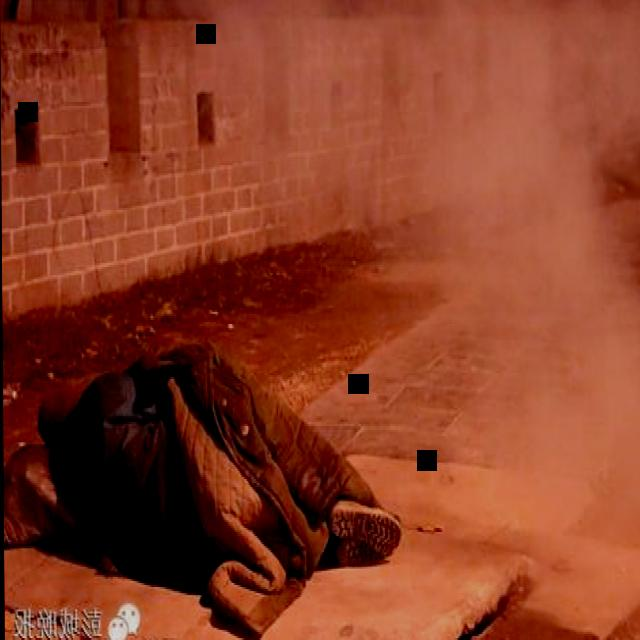Fall-Detected: (11, 318, 416, 626)
